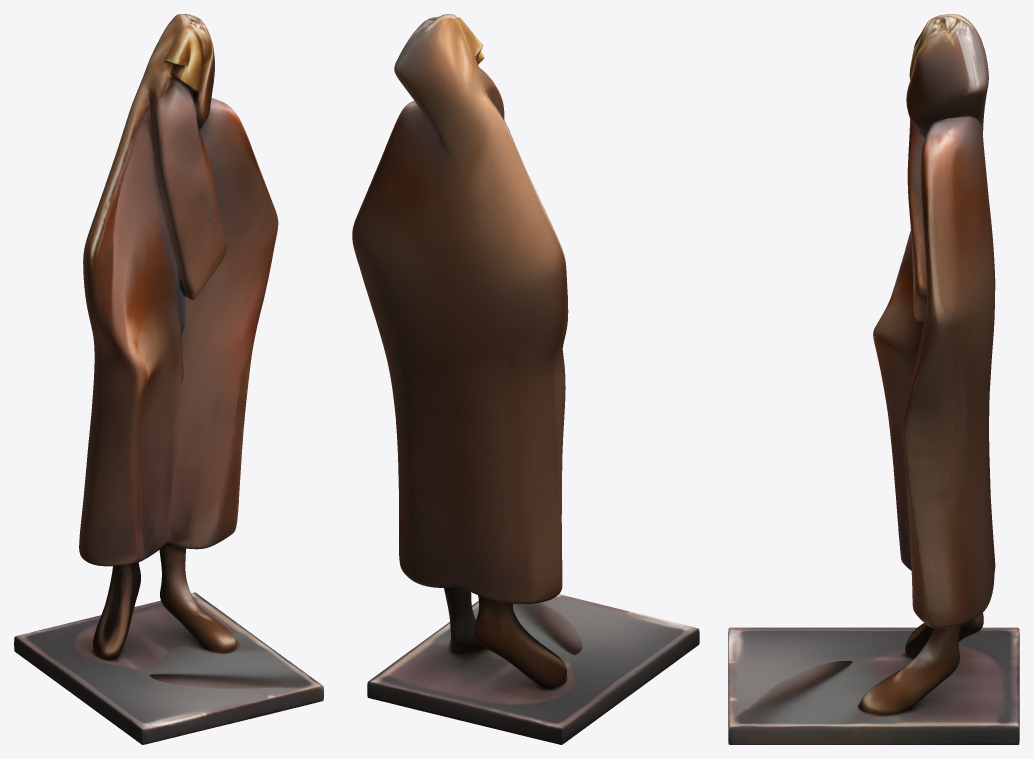
File: carol_gold.glb
3 renders of one model, left to right at view 1: azimuth 30°, elevation 25°; view 2: azimuth 150°, elevation 25°; view 3: azimuth 270°, elevation 25°, orthographic. The views are drawn at different scales.
Visible parts, largest first — view 1: model; view 2: model; view 3: model.
Part boxes in pixels (x1,y1,x2,y2): model: [14, 14, 323, 744]; model: [352, 14, 699, 744]; model: [728, 14, 1019, 744].
Bounding box in the file's own units: 0.688 × 1.8 × 0.6732.
Materials: 1 (1 with a texture image).
